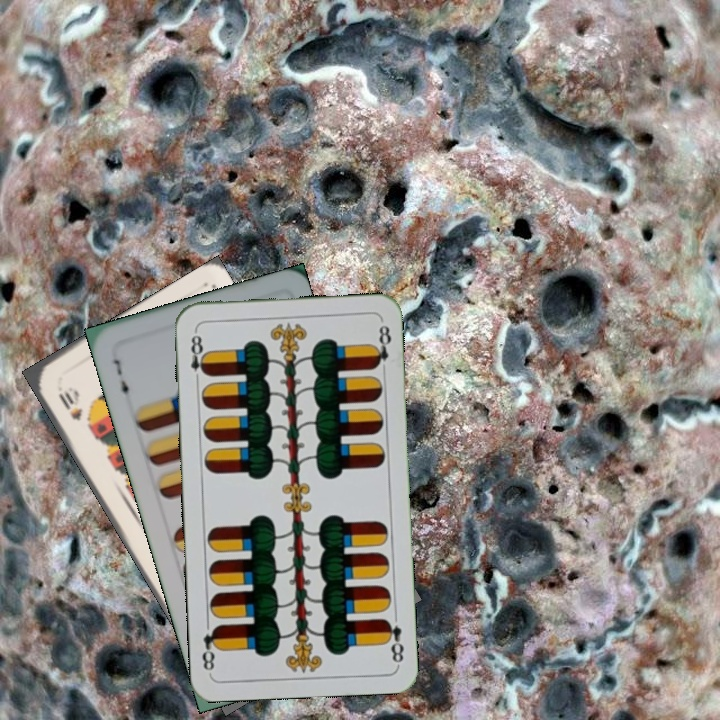E7: (109, 355, 132, 404)
E8: (380, 614, 407, 667), (187, 326, 210, 386)
S10: (54, 387, 85, 423)
